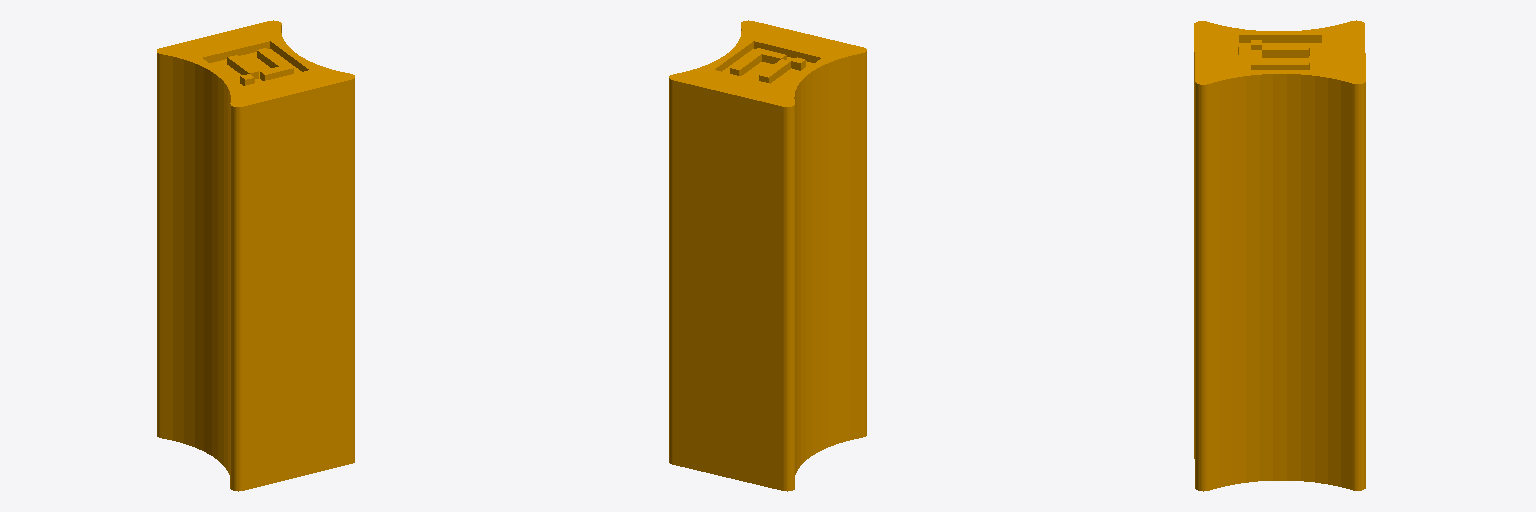
The robot description file, URDF, robot "40_square_40_concave":
<?xml version="1.0" ?>
<robot name="40_square_40_concave">

    <link concave="yes" name="40_square_40_concave">
        <visual>
            <origin rpy="1.5707963267948966 0 0" xyz="-0.02 0.02 -0.0525"/>
            <geometry>
                <mesh filename="Shapes/40_square_40_concave.STL" scale=".001 .001 .001"/>
            </geometry>
        </visual>
        <collision concave="yes">
            <origin rpy="1.5707963267948966 0 0" xyz="-0.02 0.02 -0.0525"/>
            <geometry>
                <mesh filename="Shapes/40_square_40_concave.STL" scale=".001 .001 .001"/>
            </geometry>
        </collision>
        <inertial>
            <mass value="0.3"/>
            <inertia ixx="0.000029435425" ixy="0.0" ixz="0.0" iyy="0.000029435425" iyz="0.0" izz="0.00000725805"/>
        </inertial>
    </link>

</robot>

--- Facts derived from the render (not from the file) ---
3 views of the same robot in one strip: view 1: azimuth 30°, elevation 25°; view 2: azimuth 150°, elevation 25°; view 3: azimuth 270°, elevation 25° (orthographic).
Model 40_square_40_concave with 1 links and 0 joints (none), rooted at 40_square_40_concave, posed every joint at zero.
Links seen in each view (by area): view 1: 40_square_40_concave; view 2: 40_square_40_concave; view 3: 40_square_40_concave.
Link boxes in pixels (x1,y1,x2,y2): 40_square_40_concave: (157,20,354,491); 40_square_40_concave: (669,20,866,491); 40_square_40_concave: (1194,20,1365,491).
Bounding box of the posed robot: 0.0356 × 0.0403 × 0.105 m (x, y, z).
Meshes: 1 distinct files referenced, 1 mesh visuals loaded (1 binary STL).
